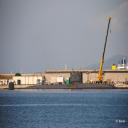submarine: (9, 73, 118, 91)
